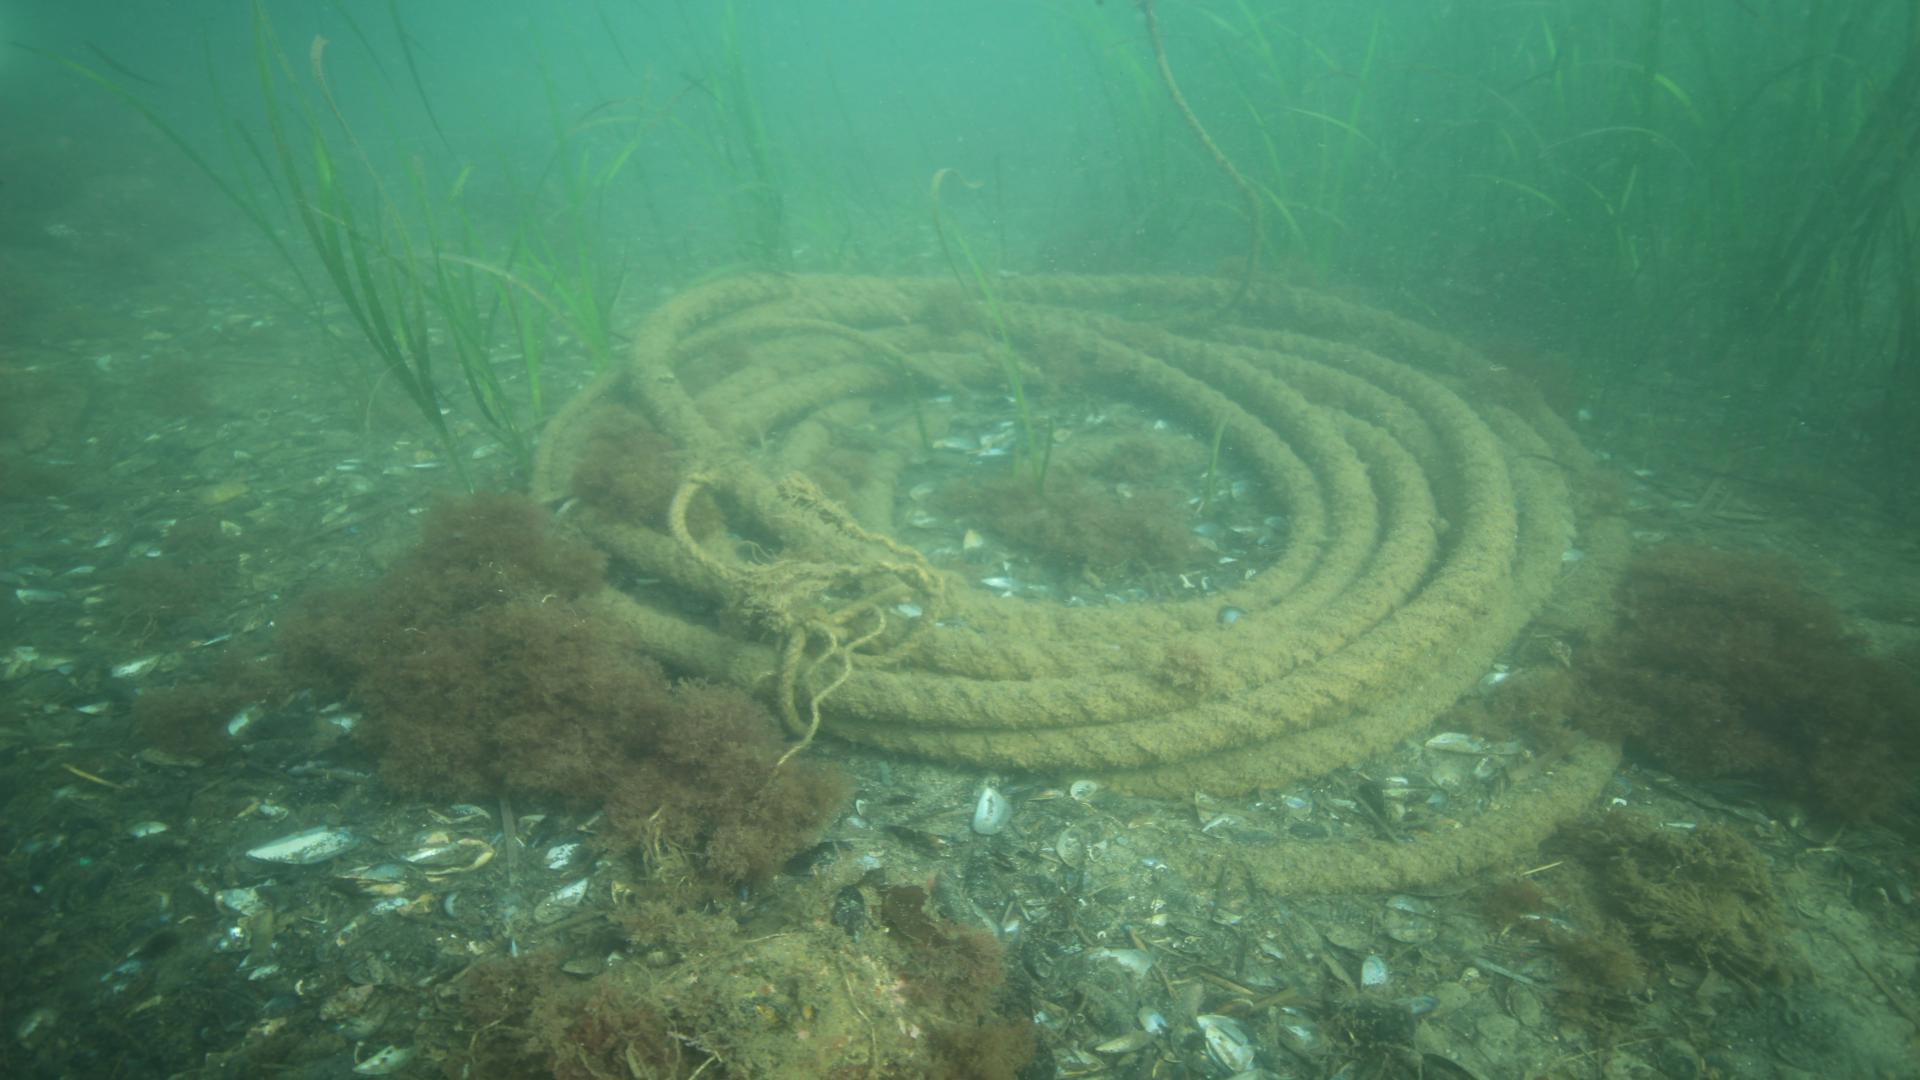bundle of ropes: (524, 270, 1636, 897)
